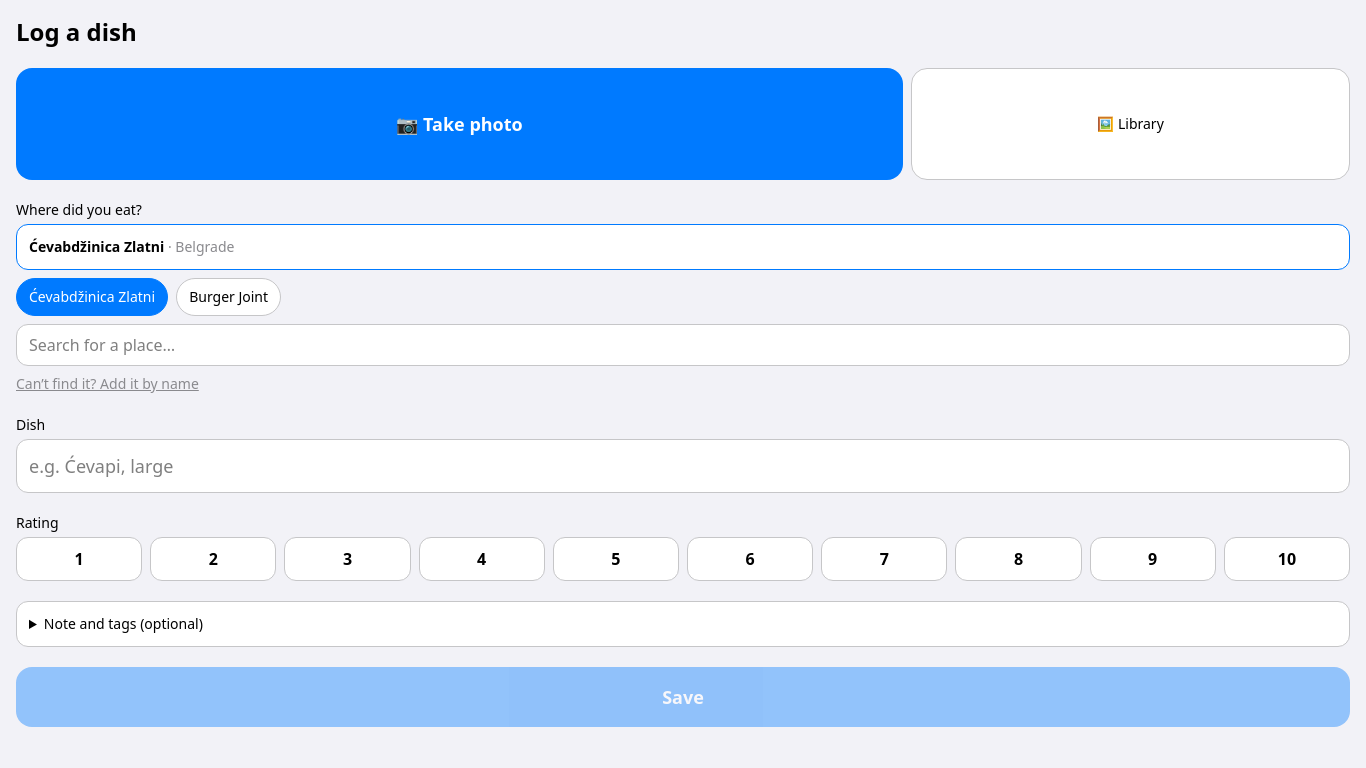
it: logging a dish › lets the user switch to another suggested place
This screenshot has width=1366, height=768.
Check: the element with test id "selected-place" is shown, box [16, 224, 1350, 270]
Click the button "Burger Joint" at (229, 297), box [176, 278, 281, 316]
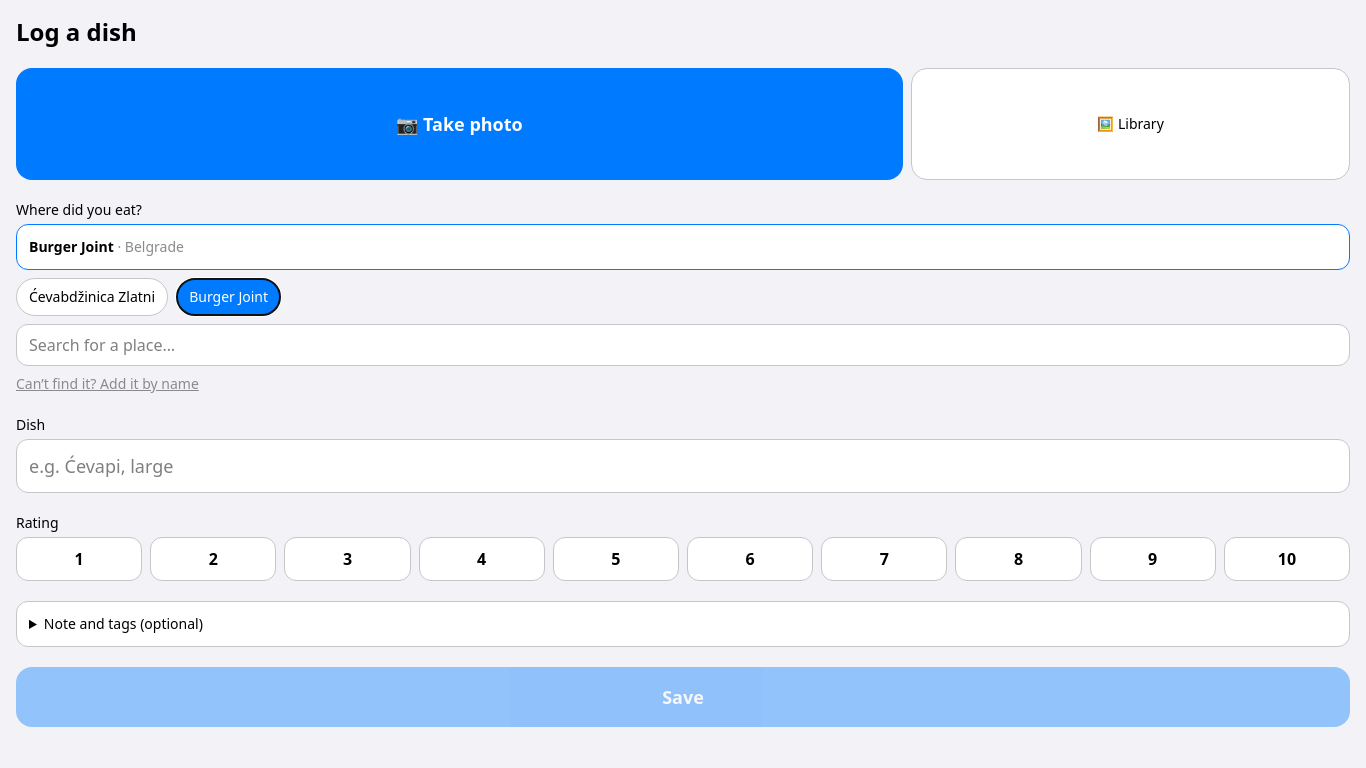
Check: the element with test id "selected-place" shows "Burger Joint", box [29, 237, 114, 256]
